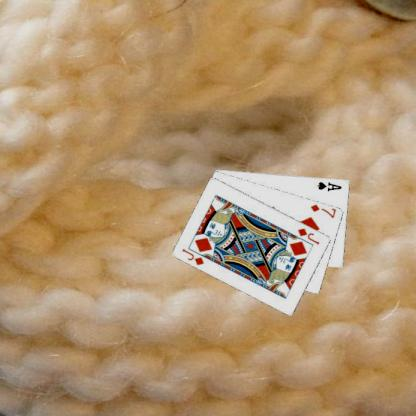7D: (308, 202, 337, 220)
AS: (316, 180, 344, 192)
JD: (179, 246, 206, 267), (295, 225, 321, 246)
